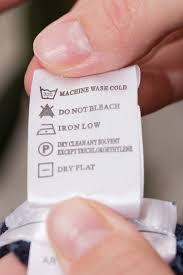ER_flat_dry: (36, 160, 55, 179)
ER_iron_low_temp: (35, 121, 57, 138)
ER_no_bleach: (38, 102, 56, 119)
ER_tumble_dry_low_heat: (37, 141, 54, 157)
